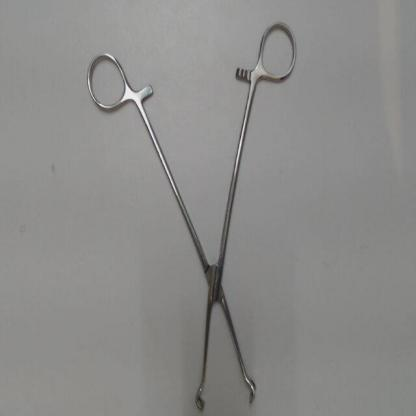8 Babcock Tissue Forceps: (79, 15, 301, 414)
